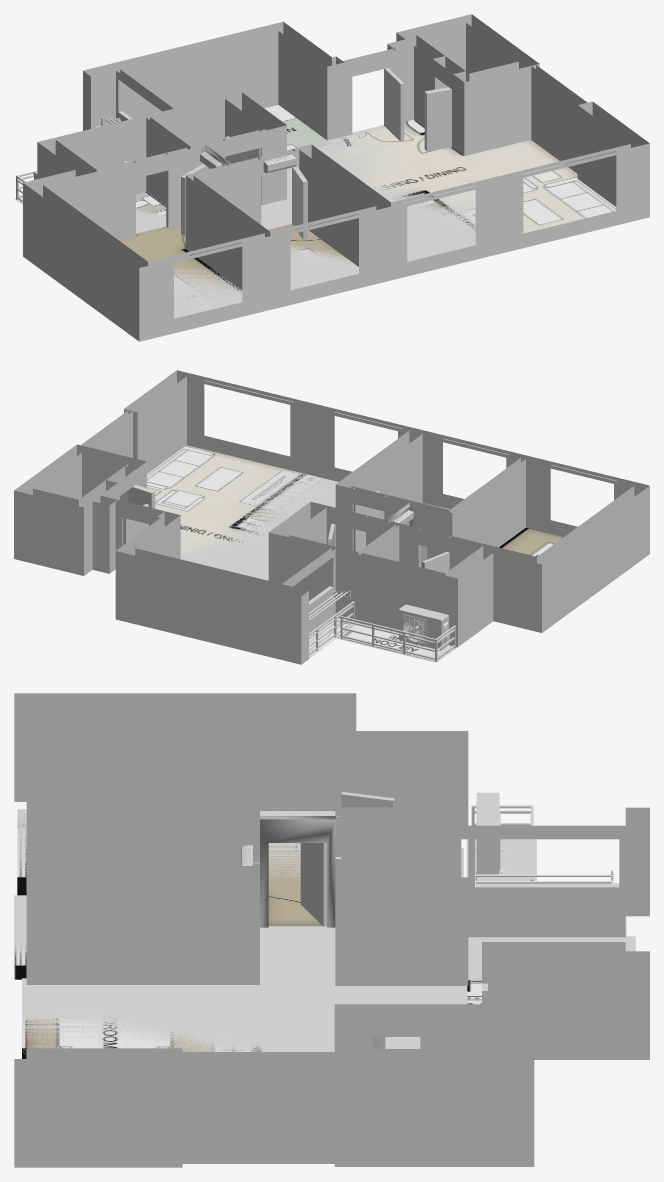
File: Kallang V3a.fbx
3 renders of one model, top to bottom at view 1: azimuth 30°, elevation 25°; view 2: azimuth 150°, elevation 25°; view 3: azimuth 270°, elevation 25°, orthographic. The views are drawn at different scales.
Parts seen in each view (by area): view 1: O.009, OverallFloor, O.007, K.003, Living Room Floor, BSO.001, MR.003, MR, R.003, K, LR5, WC1.003 (+38 smaller); view 2: OverallFloor, O.004, O.007, Living Room Floor, O.001, LR_1, O.011, MR.003, O.009, O.008, LR3, K.001 (+41 smaller); view 3: MR.001, Living Room Floor, LR2, O.012, O.014, R.005, O, D, O.003, K.002, OverallFloor, WC1.004 (+25 smaller).
Part boxes in pixels (x1,y1,x2,y2): O.009: [139, 143, 649, 341]; OverallFloor: [119, 105, 616, 309]; O.007: [23, 183, 139, 341]; K.003: [120, 31, 278, 118]; Living Room Floor: [261, 126, 475, 261]; BSO.001: [464, 64, 539, 155]; MR.003: [185, 175, 264, 289]; MR: [43, 162, 135, 240]; R.003: [299, 150, 375, 266]; K: [278, 31, 327, 139]; LR5: [531, 66, 582, 173]; WC1.003: [56, 118, 146, 193]; OverallFloor: [147, 445, 563, 661]; O.004: [115, 551, 301, 664]; O.007: [542, 486, 649, 632]; Living Room Floor: [180, 454, 338, 580]; O.001: [335, 549, 457, 646]; LR_1: [187, 376, 408, 481]; O.011: [14, 490, 83, 575]; MR.003: [452, 459, 525, 547]; O.009: [177, 370, 649, 529]; O.008: [493, 553, 541, 632]; LR3: [137, 376, 186, 473]; K.001: [268, 532, 330, 600]; MR.001: [26, 702, 335, 810]; Living Room Floor: [22, 926, 467, 1053]; LR2: [26, 876, 259, 984]; O.012: [334, 1058, 534, 1166]; O.014: [14, 1059, 182, 1167]; R.005: [26, 790, 252, 865]; O: [182, 1055, 334, 1163]; D: [335, 877, 468, 985]; O.003: [507, 951, 649, 1059]; K.002: [468, 828, 625, 937]; OverallFloor: [14, 824, 626, 1058]; WC1.004: [341, 742, 461, 807].
Bounding box in the file's own units: 1879 × 260 × 1380.
Materials: 15 (1 with a texture image).
